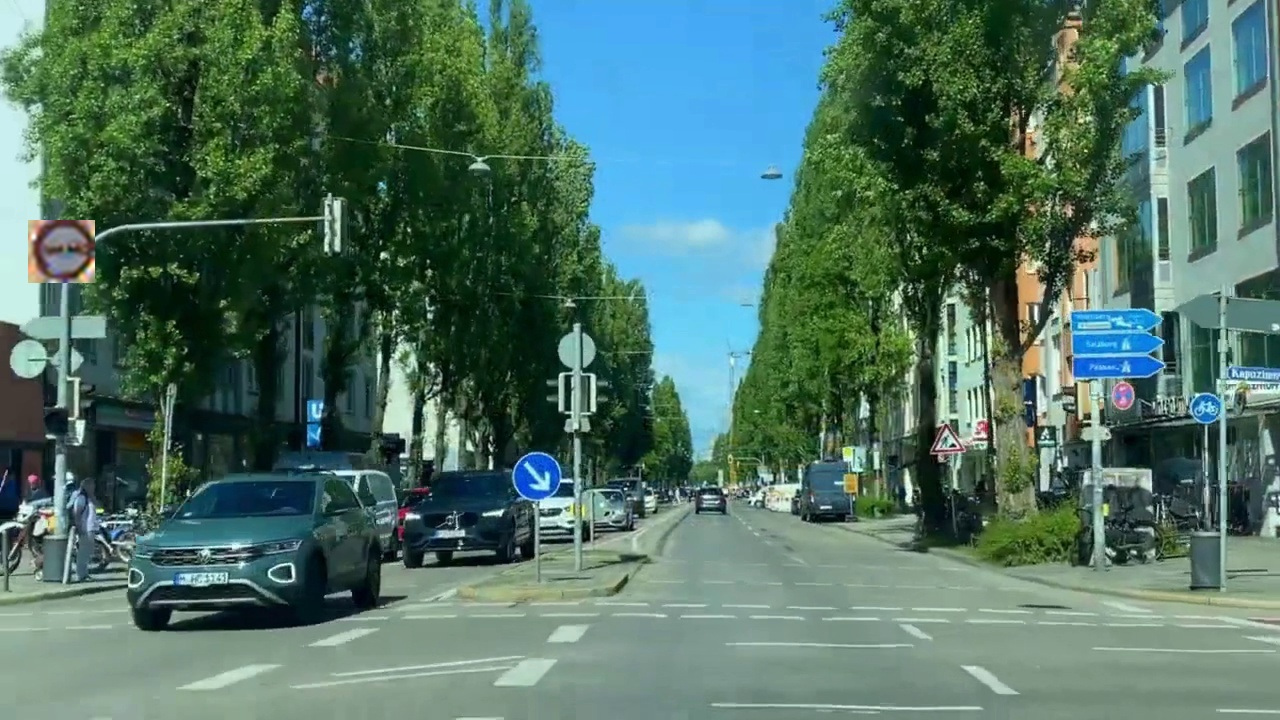No passing: (28, 220, 95, 283)
